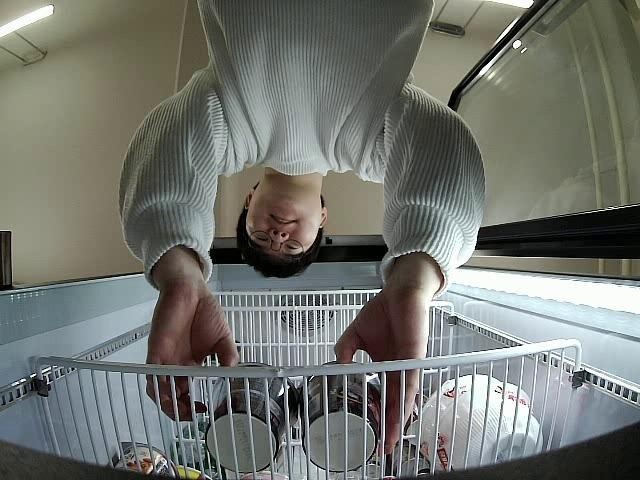08_buldak_S: (210, 362, 300, 475), (303, 361, 379, 472)
